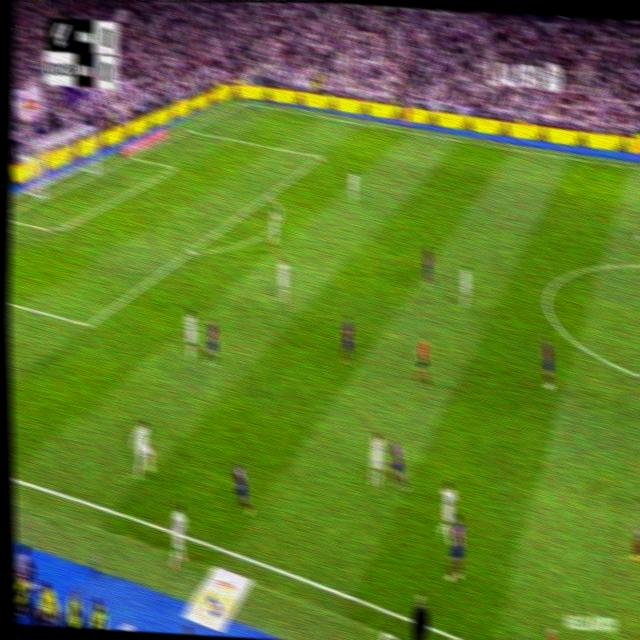bigarea_bottom_inner: (81, 313, 95, 336)
bigarea_top_inner: (314, 148, 325, 163)
bigarea_top_outter: (184, 121, 195, 134)
bottom_arc_area_intersection: (185, 242, 198, 258)
smallarea_bottom_inner: (50, 221, 64, 239)
smallarea_top_inner: (170, 161, 181, 172)
top_arc_area_intersection: (264, 186, 274, 201)
